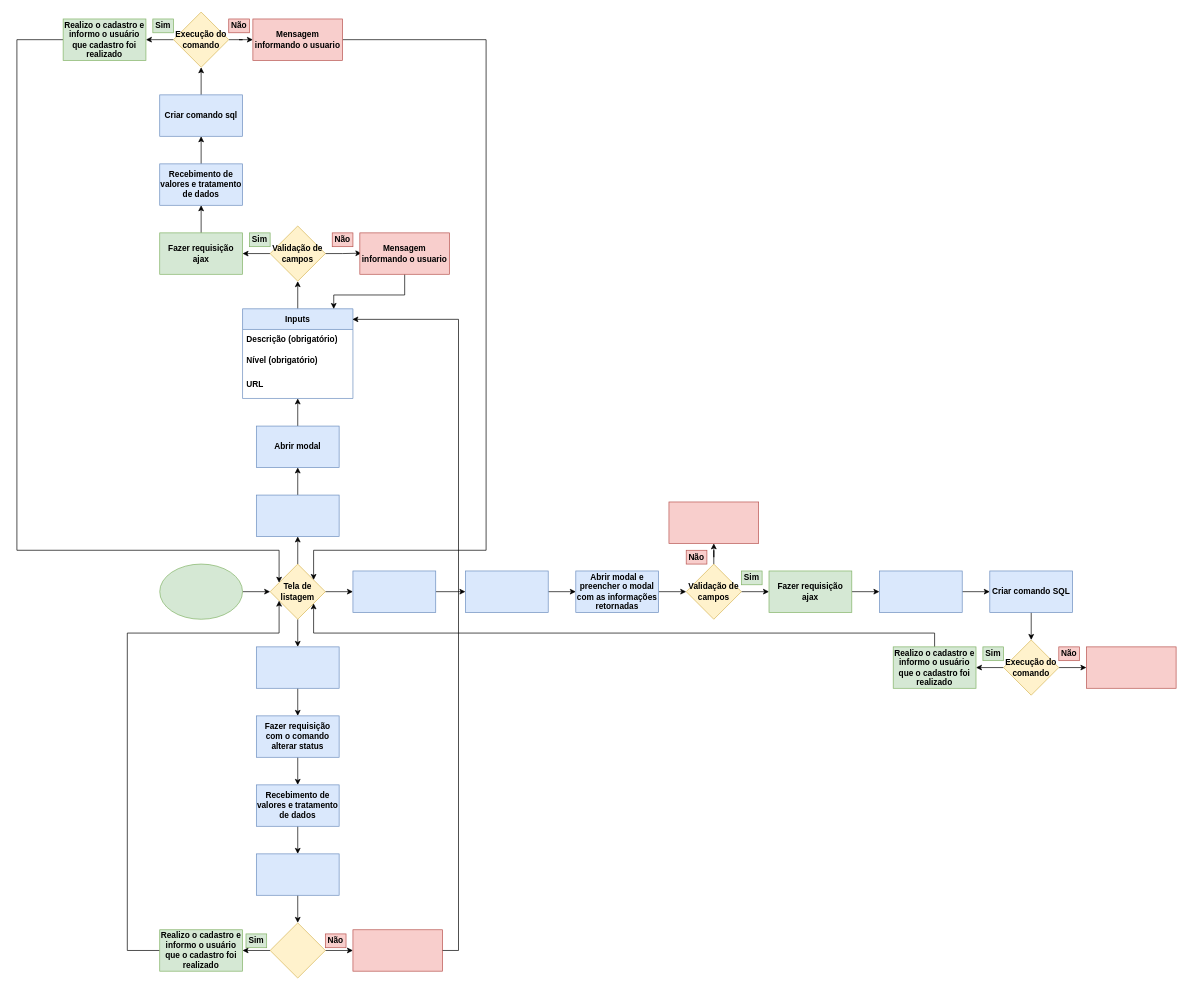
Some shapes in this 1188 by 990 pixel diagram are drawn without their labels. The centre of each missing label's shape, as x and y in pixels:
Alterar status: [297,667]
Buscar informações no banco de dados: [506,591]
Cadastrar opção: [297,515]
Criar o comando sql: [297,874]
Editar opção: [394,591]
Execução de comando: [297,950]
Inicio: [201,591]
Mensagem de erro informando o usuário: [713,522]
Passo a mensagem de erro: [1131,667]
passo mensagem de erro: [397,950]
Recebimento de valores e tratamento dos dados: [920,591]
